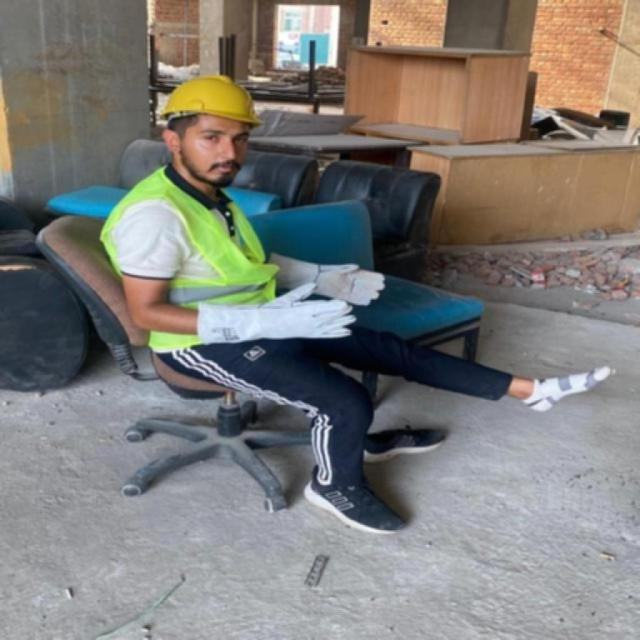Gloves-Detection: (192, 302, 363, 348), (272, 244, 384, 302)
